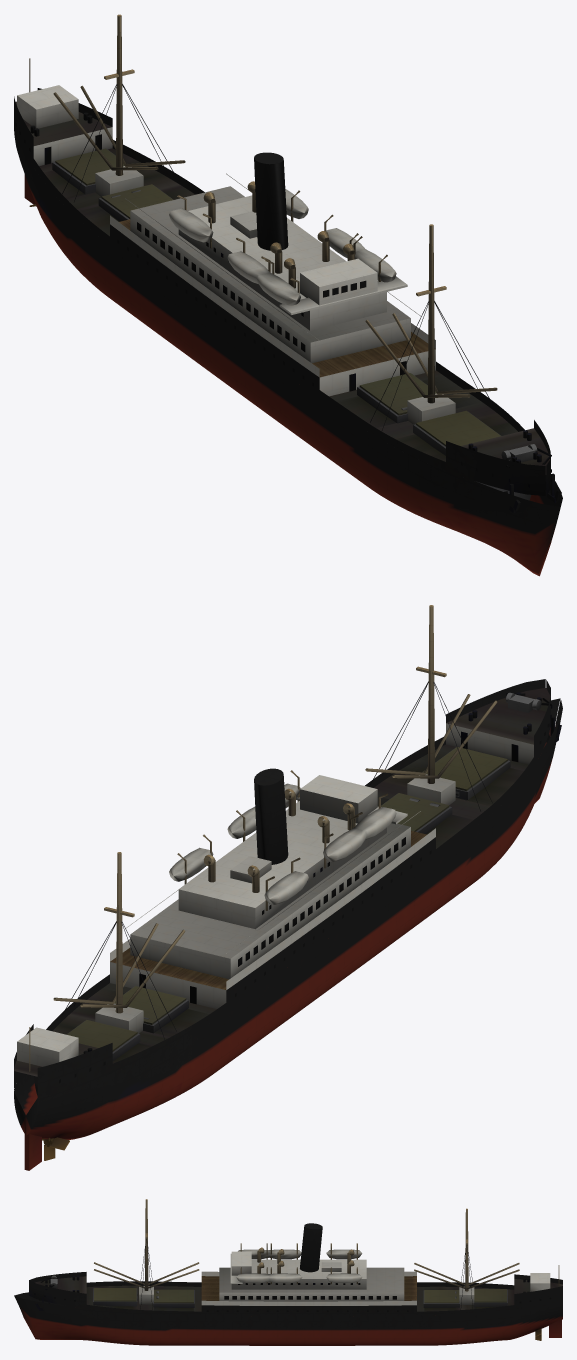
File: model_built.glb
3 renders of one model, top to bottom at view 1: azimuth 30°, elevation 25°; view 2: azimuth 150°, elevation 25°; view 3: azimuth 270°, elevation 25°, orthographic. The views are drawn at different scales.
Parts seen in each view (by area): view 1: main; view 2: main; view 3: main.
Boxes of the visible parts, <box> form: main: <box>14,14,562,576</box>; main: <box>14,605,562,1170</box>; main: <box>14,1199,562,1345</box>.
Size of the model in its own units: 13.92 by 31.02 by 110.
2 materials, 2 textured.
